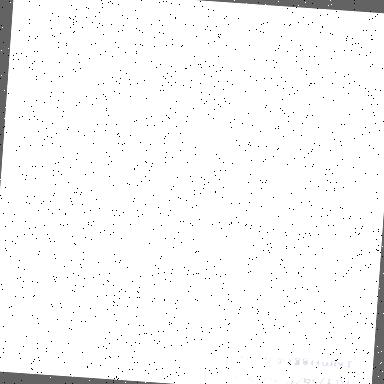pbw: (96, 182, 128, 206), (260, 86, 298, 106), (244, 131, 270, 157), (274, 214, 293, 236), (150, 231, 172, 250), (182, 225, 196, 238), (191, 226, 201, 238)
